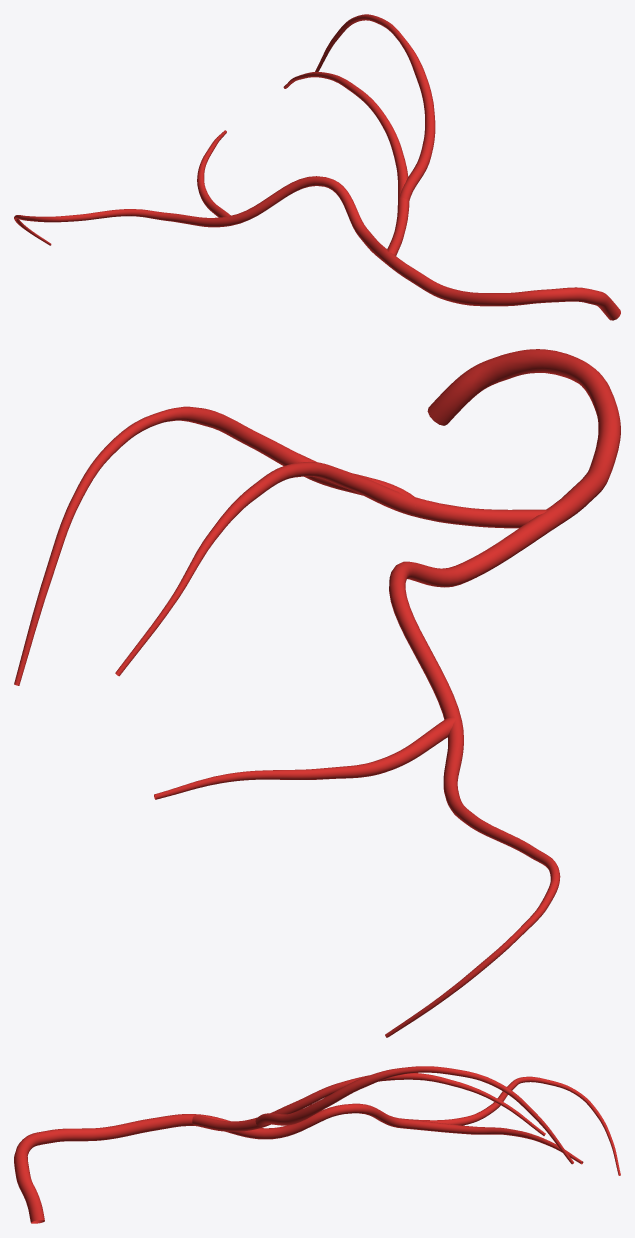
File: circulatorio-superior-cerebellar-artery-r.glb
The picture shows the model from 3 angles, top to bottom: view 1: azimuth 30°, elevation 25°; view 2: azimuth 150°, elevation 25°; view 3: azimuth 270°, elevation 25°; orthographic projection. The views are drawn at different scales.
Visible parts, largest first — view 1: Superior cerebellar artery.r; view 2: Superior cerebellar artery.r; view 3: Superior cerebellar artery.r.
Boxes of the visible parts, box(x1,y1,x2,y2) form: Superior cerebellar artery.r: box(14, 14, 620, 320); Superior cerebellar artery.r: box(14, 349, 620, 1037); Superior cerebellar artery.r: box(14, 1066, 620, 1223).
Size of the model in its own units: 0.0463 by 0.0308 by 0.0748.
